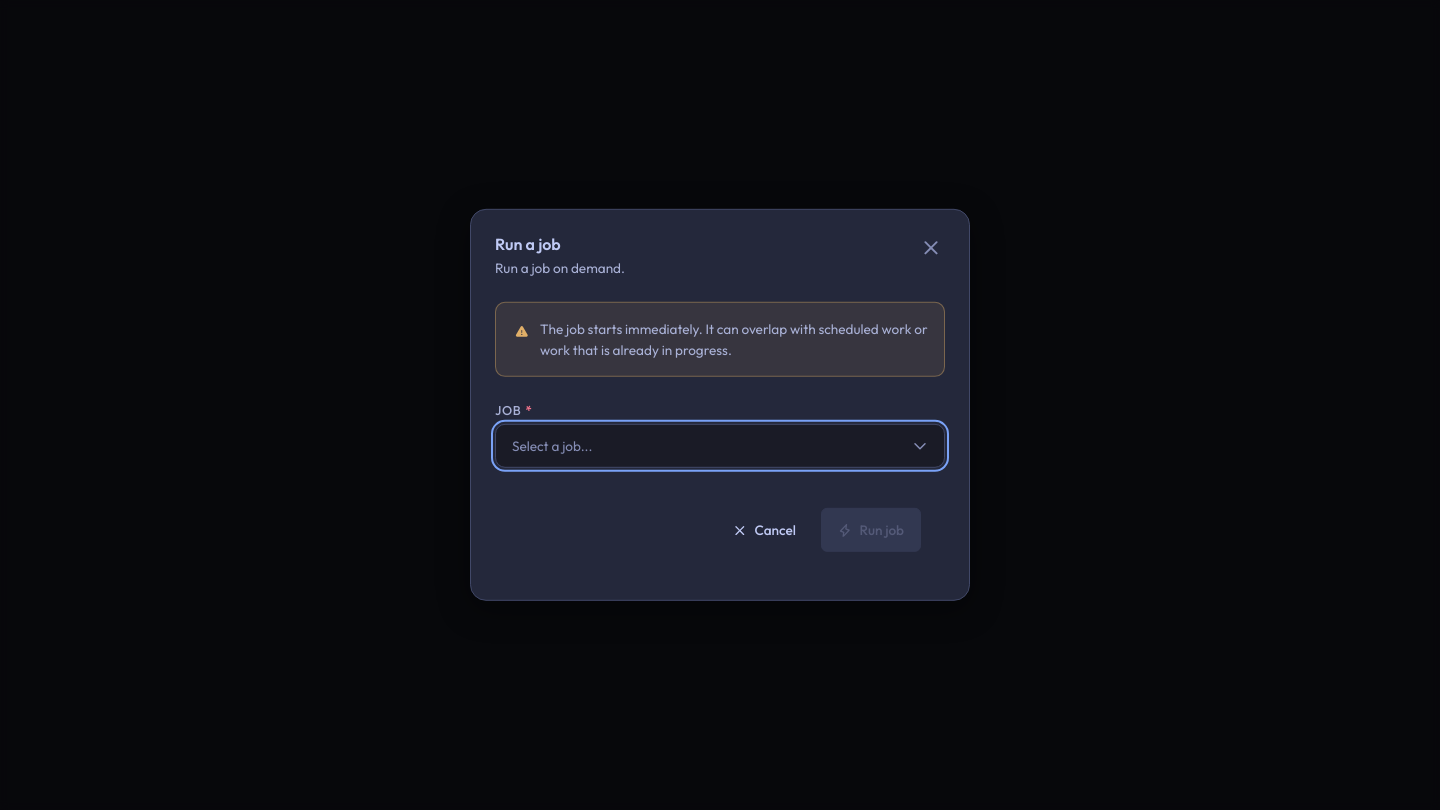
Test: RunJobDialog parameters › shows a rejected parameter at its field with the server reason and keeps the values
The image size is (1440, 810).
Click the dropdown labelled "Select a job..." at (552, 446), box [495,424,945,468]
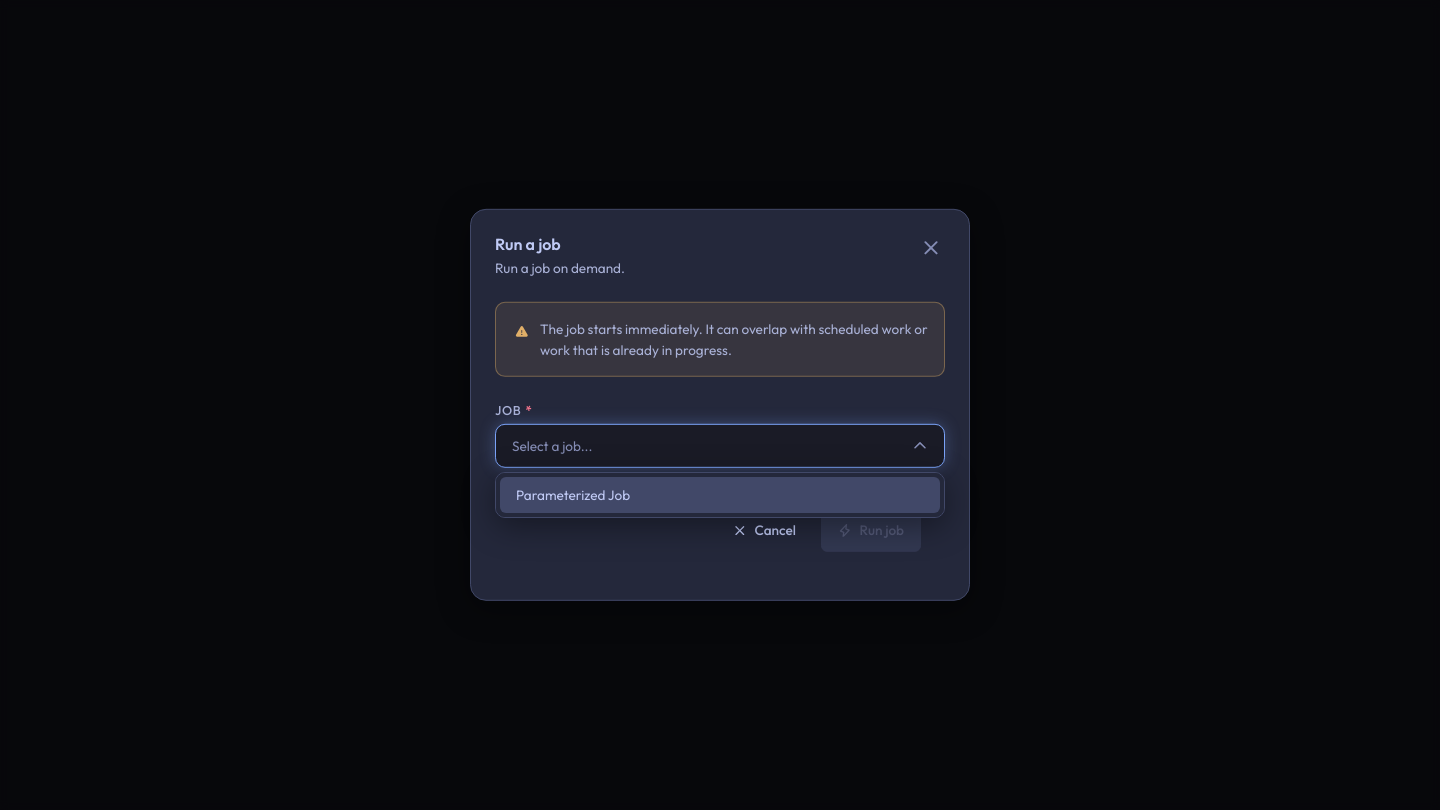
Click the option "Parameterized Job" at (573, 495), box [500,477,940,513]
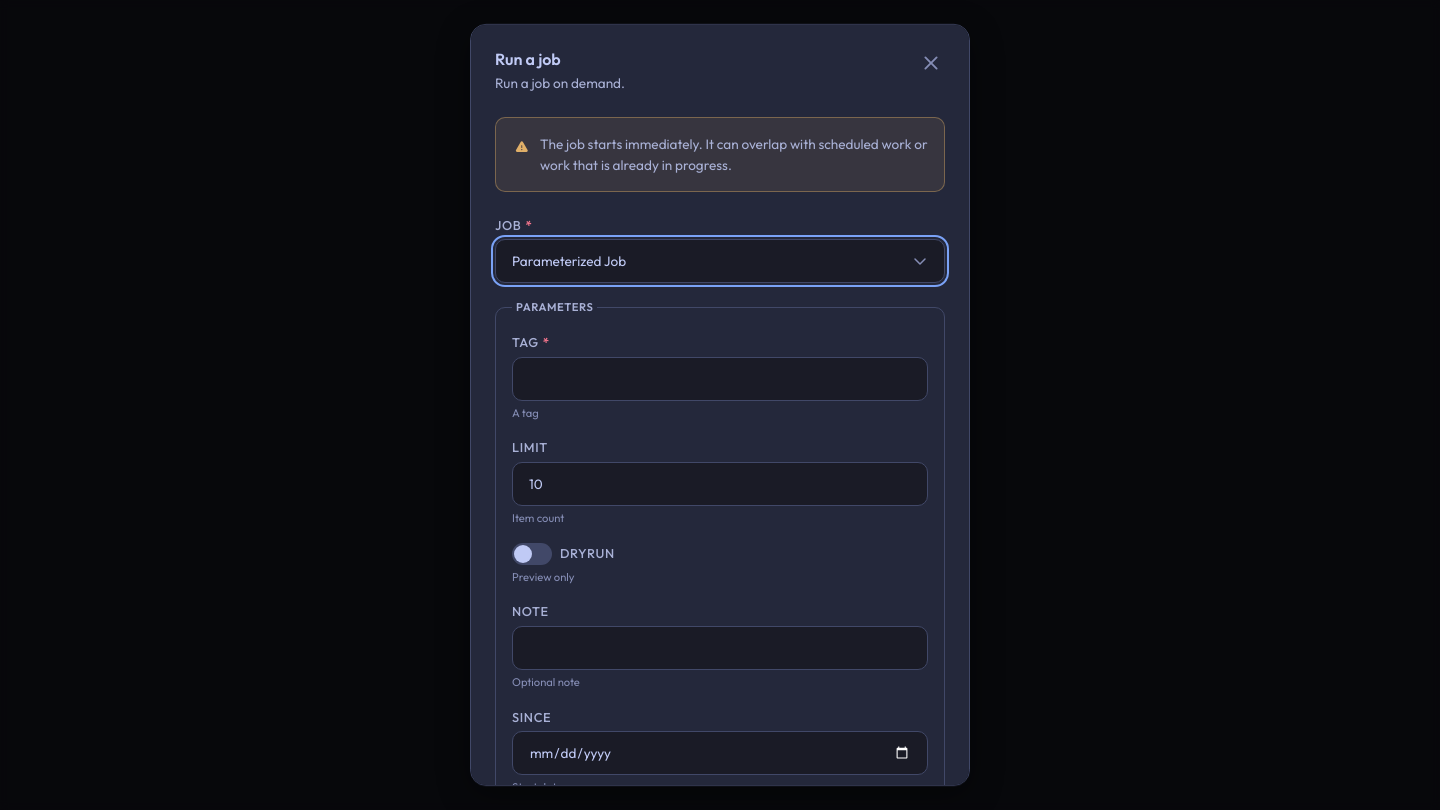
Type "movies" into the field labelled "Tag *" at (720, 378), box [513,360,927,397]
(page scrolled)
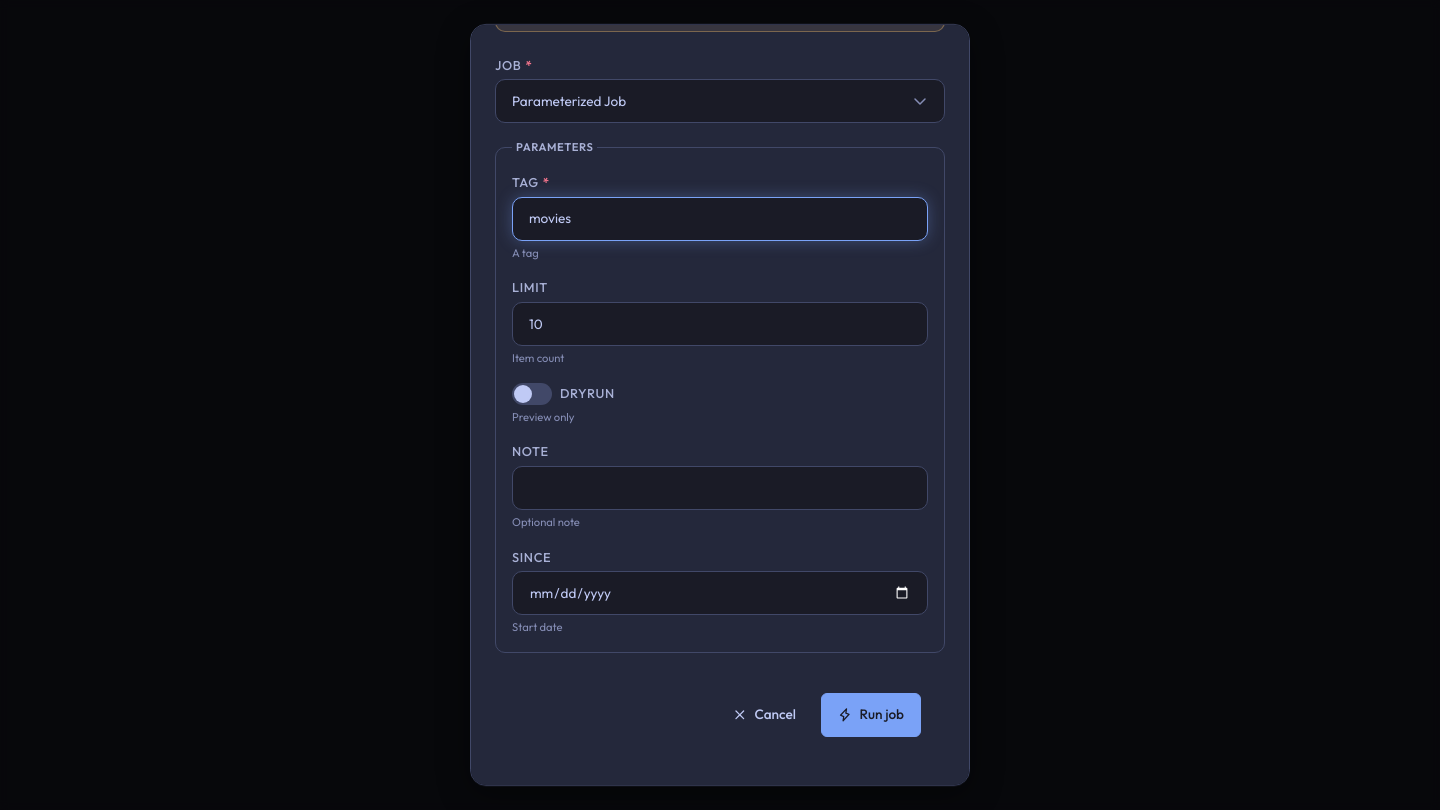
Click the button "Run job" at (871, 715), box [821,693,921,737]
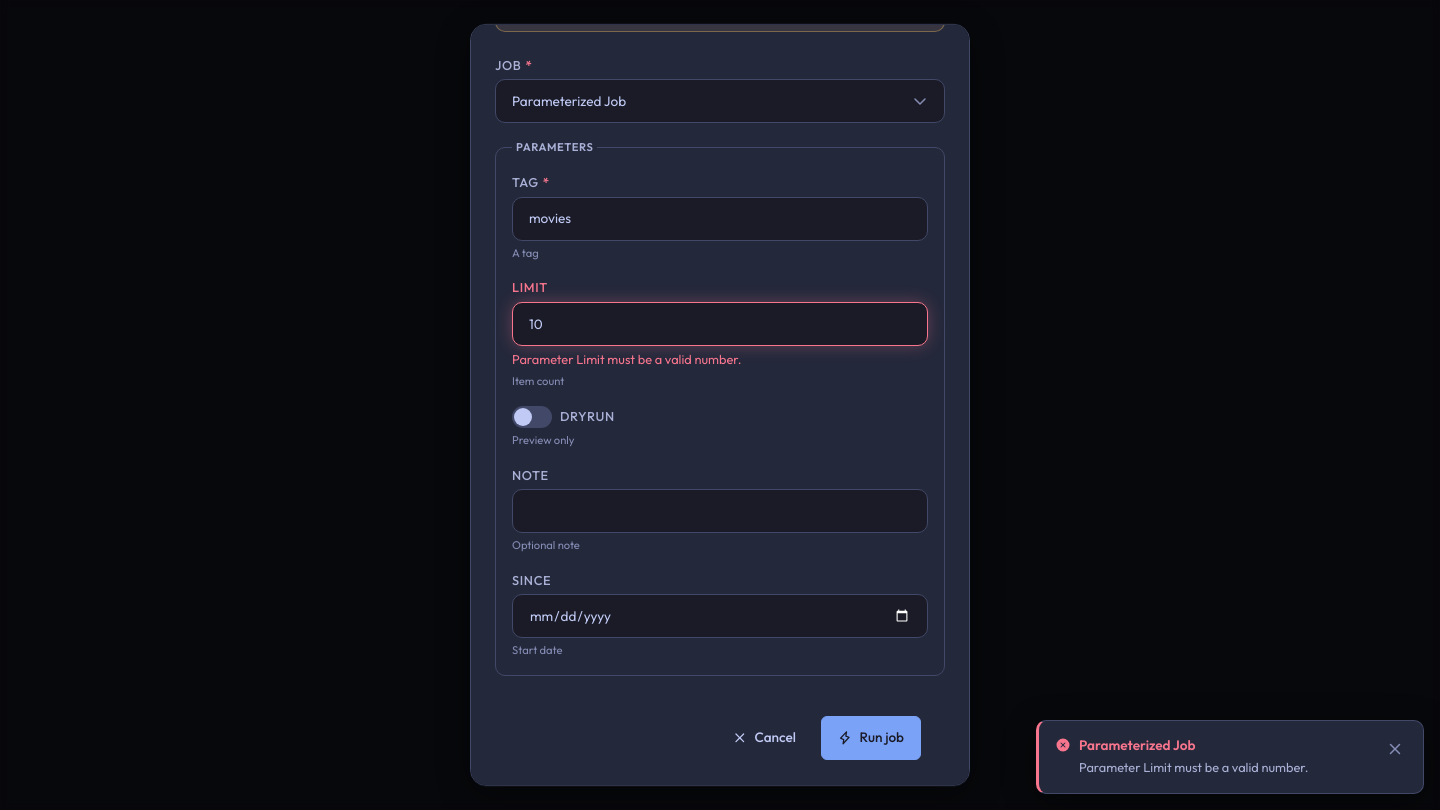
Result: the text "Parameter Limit must be a valid number." is shown at [512,351,741,367]
